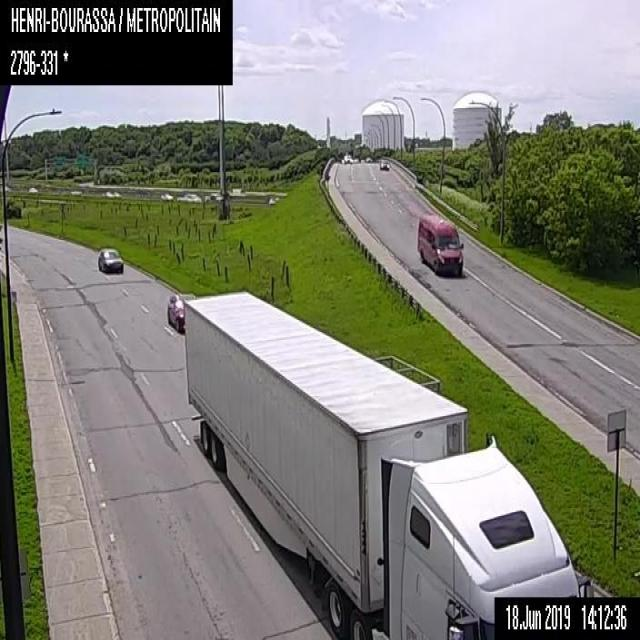vehicle: (182, 287, 594, 638), (416, 211, 464, 277), (166, 293, 196, 332), (96, 247, 124, 273), (176, 192, 201, 201), (378, 158, 389, 170), (232, 188, 246, 197), (101, 189, 113, 199), (27, 185, 39, 192), (160, 192, 172, 199), (70, 188, 82, 195), (344, 153, 350, 163), (113, 190, 121, 197), (364, 155, 372, 161)
